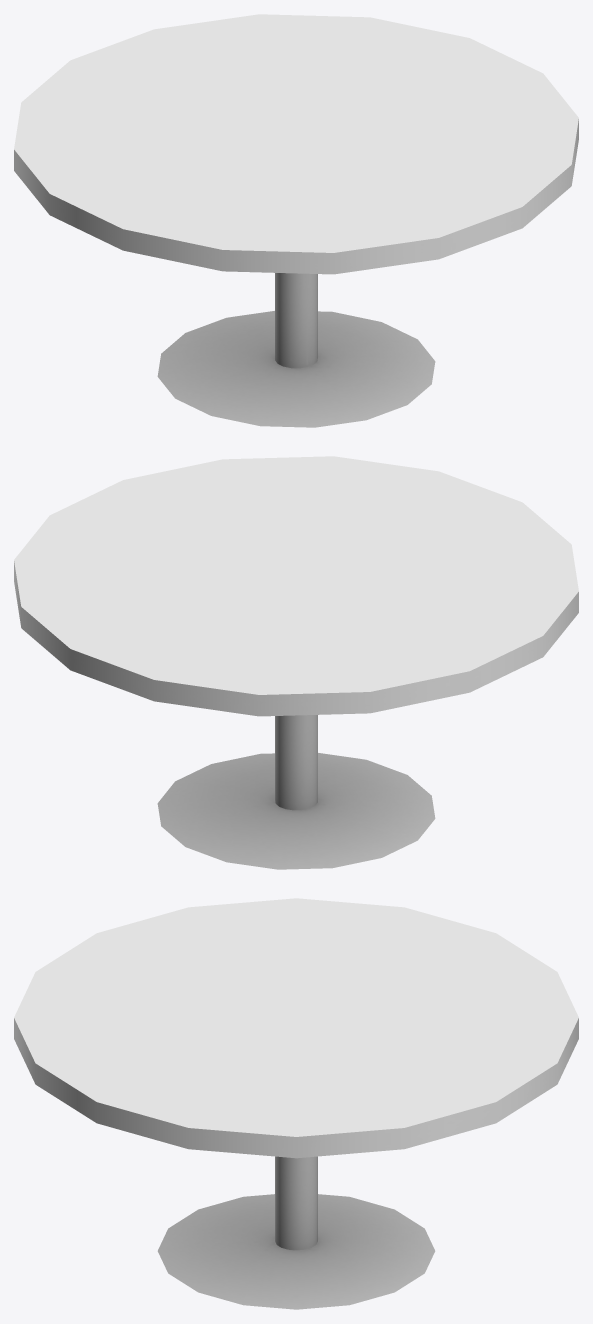
The model's file is round_table.fbx.
3 views of the same model, one above another, from view 1: azimuth 30°, elevation 25°; view 2: azimuth 150°, elevation 25°; view 3: azimuth 270°, elevation 25° (orthographic).
Parts seen in each view (by area): view 1: round_table; view 2: round_table; view 3: round_table.
Part boxes in pixels (x1,y1,x2,y2): round_table: (14, 14, 578, 427); round_table: (14, 456, 578, 869); round_table: (14, 898, 578, 1309).
Size of the model in its own units: 800 by 365 by 800.
